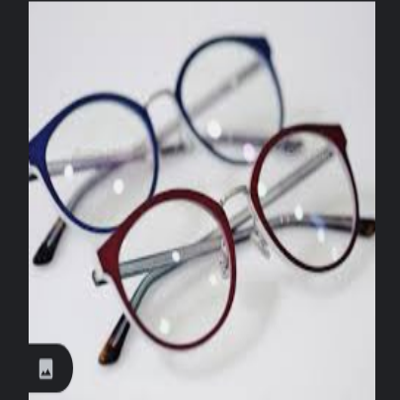glasses: (88, 121, 374, 366), (29, 34, 283, 270)
